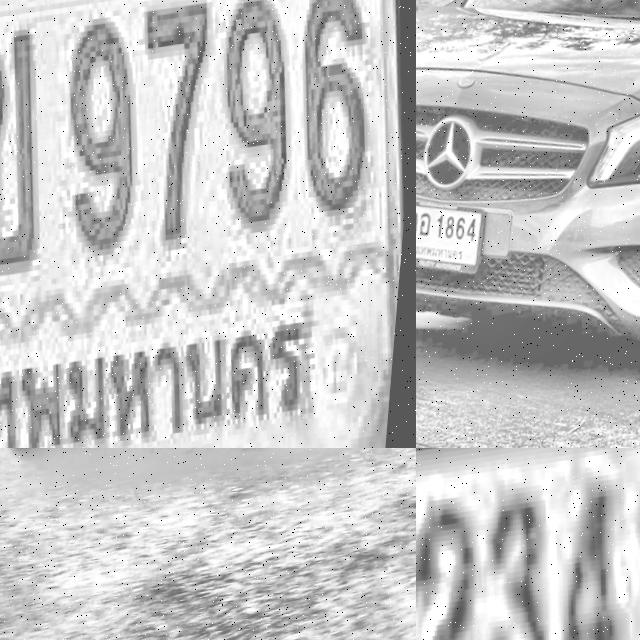license-plate: (0, 0, 416, 448), (416, 448, 640, 640), (416, 182, 502, 289)
